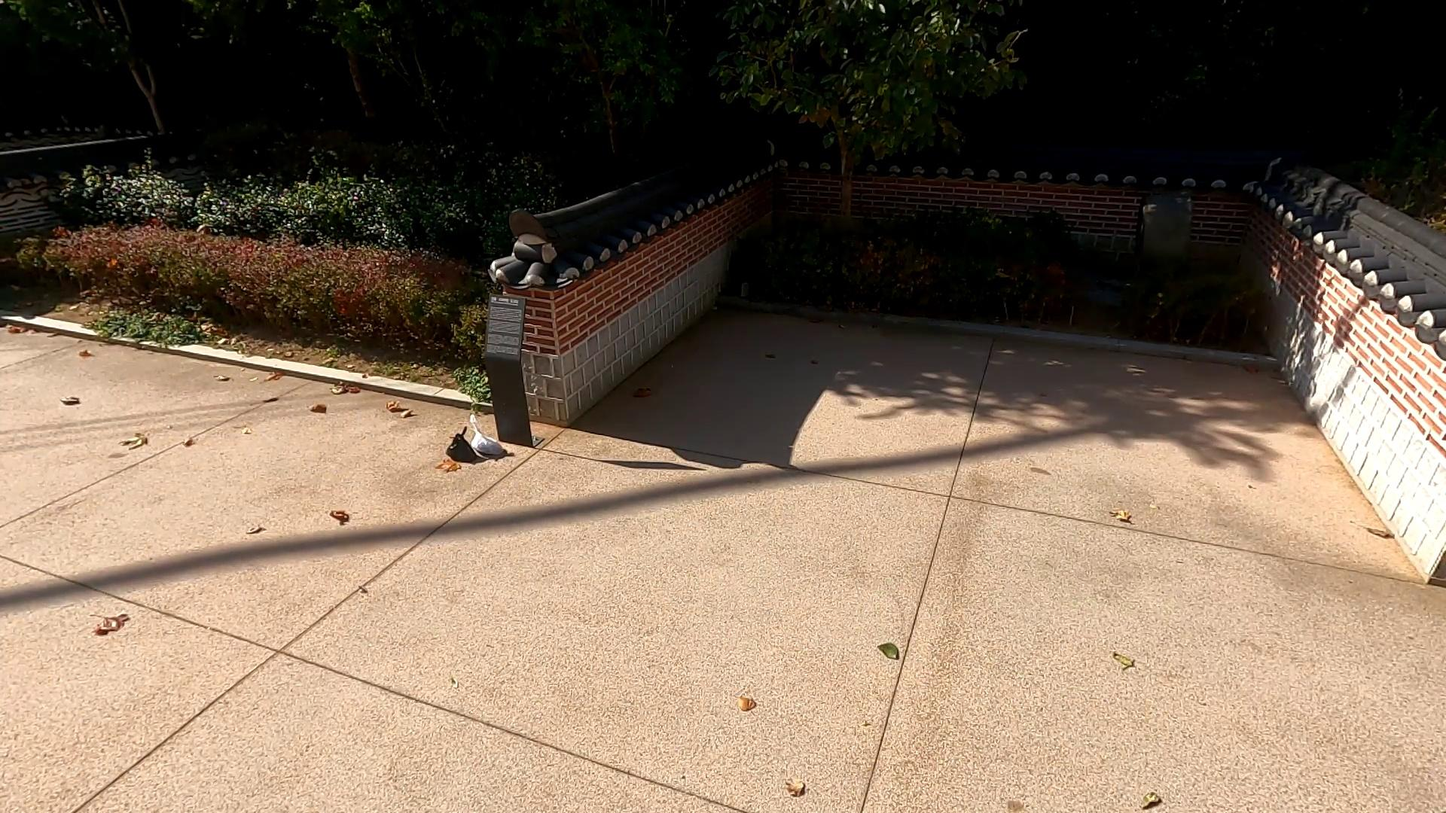trash: (461, 415, 508, 459), (445, 426, 478, 467)
